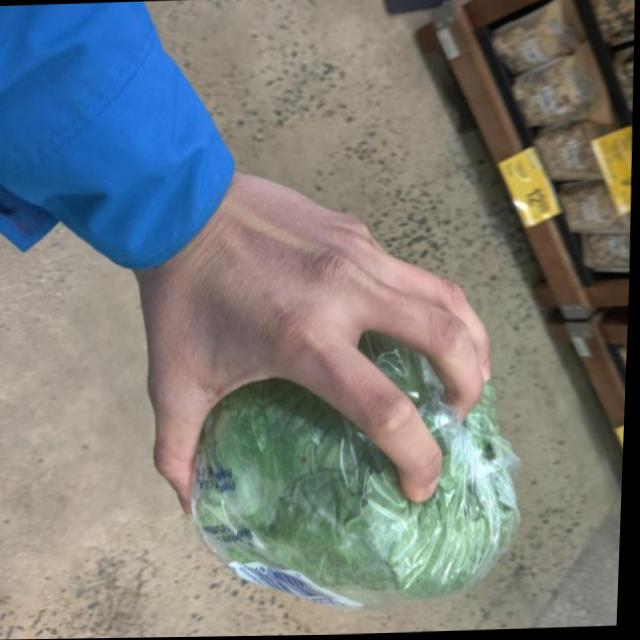Cabbage: (111, 274, 530, 638)
